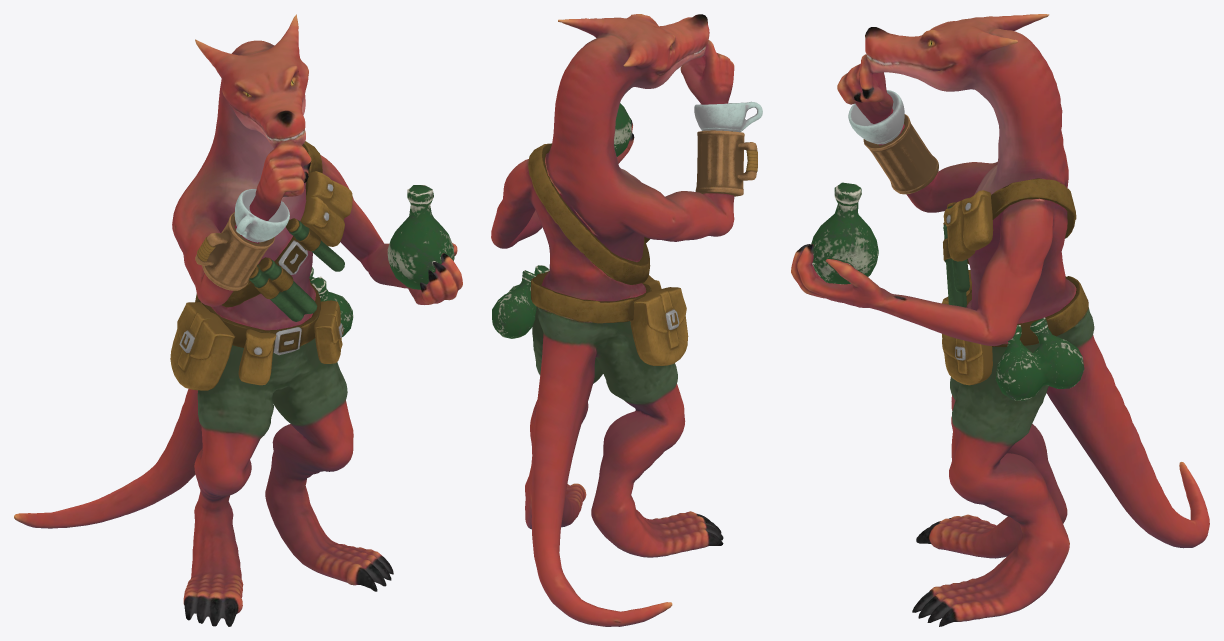
File: MZ4250 - Kobold Tinkerer.glb
3 views of the same model, side by side, from view 1: azimuth 30°, elevation 25°; view 2: azimuth 150°, elevation 25°; view 3: azimuth 270°, elevation 25° (orthographic). The views are drawn at different scales.
Visible parts, largest first — view 1: Kobold Based body for rigging.002; view 2: Kobold Based body for rigging.002; view 3: Kobold Based body for rigging.002.
Boxes of the visible parts, x1,y1,x2,y2 form: Kobold Based body for rigging.002: (14, 14, 462, 626); Kobold Based body for rigging.002: (491, 14, 762, 626); Kobold Based body for rigging.002: (791, 14, 1209, 626).
Size of the model in its own units: 0.6579 by 1.21 by 0.823.
Materials: 7 (7 with a texture image).
